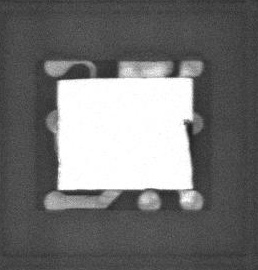DIE_BROKEN: (182, 118, 193, 189)
